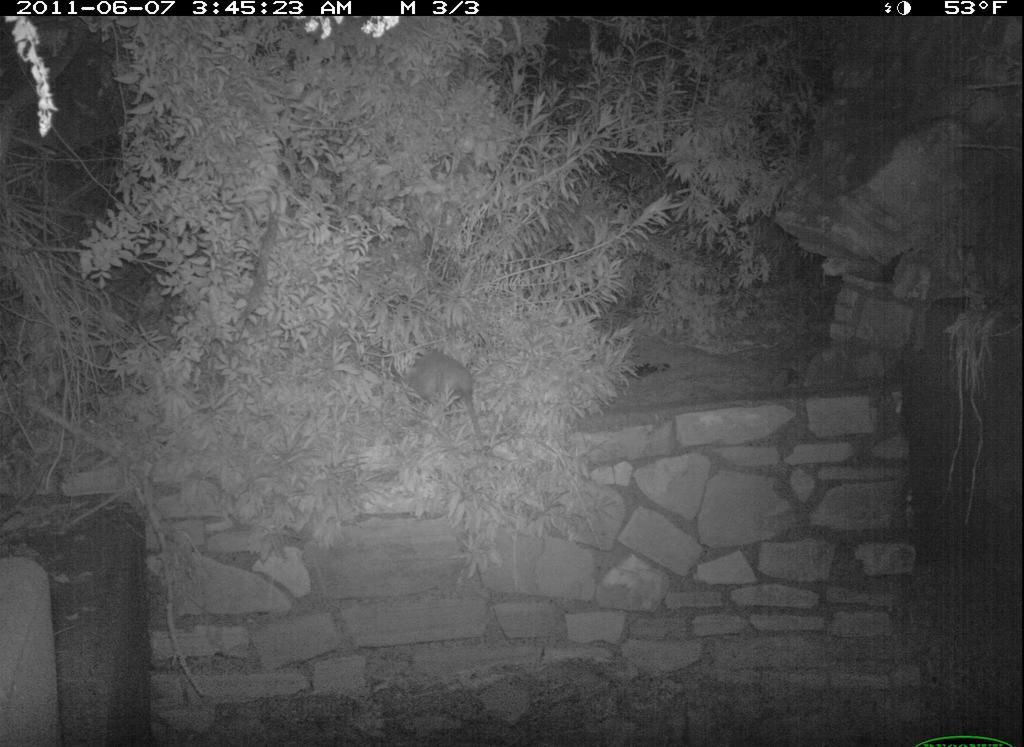opossum: (368, 331, 505, 454)
